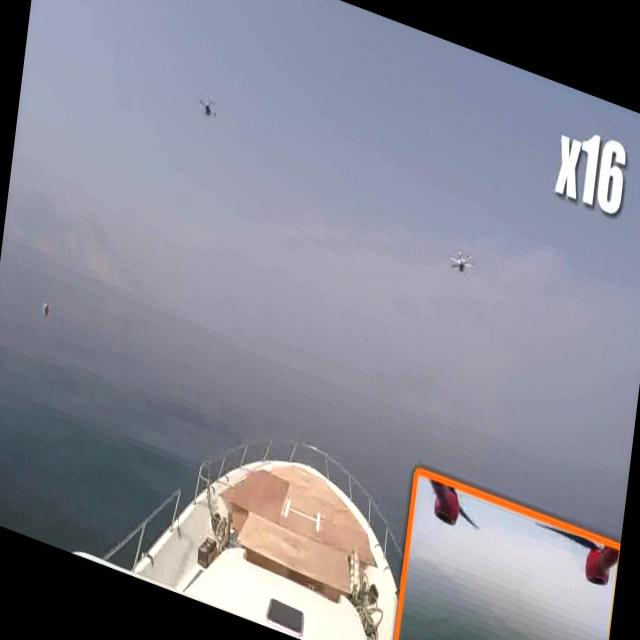drone: (444, 232, 480, 290), (188, 85, 224, 135)
